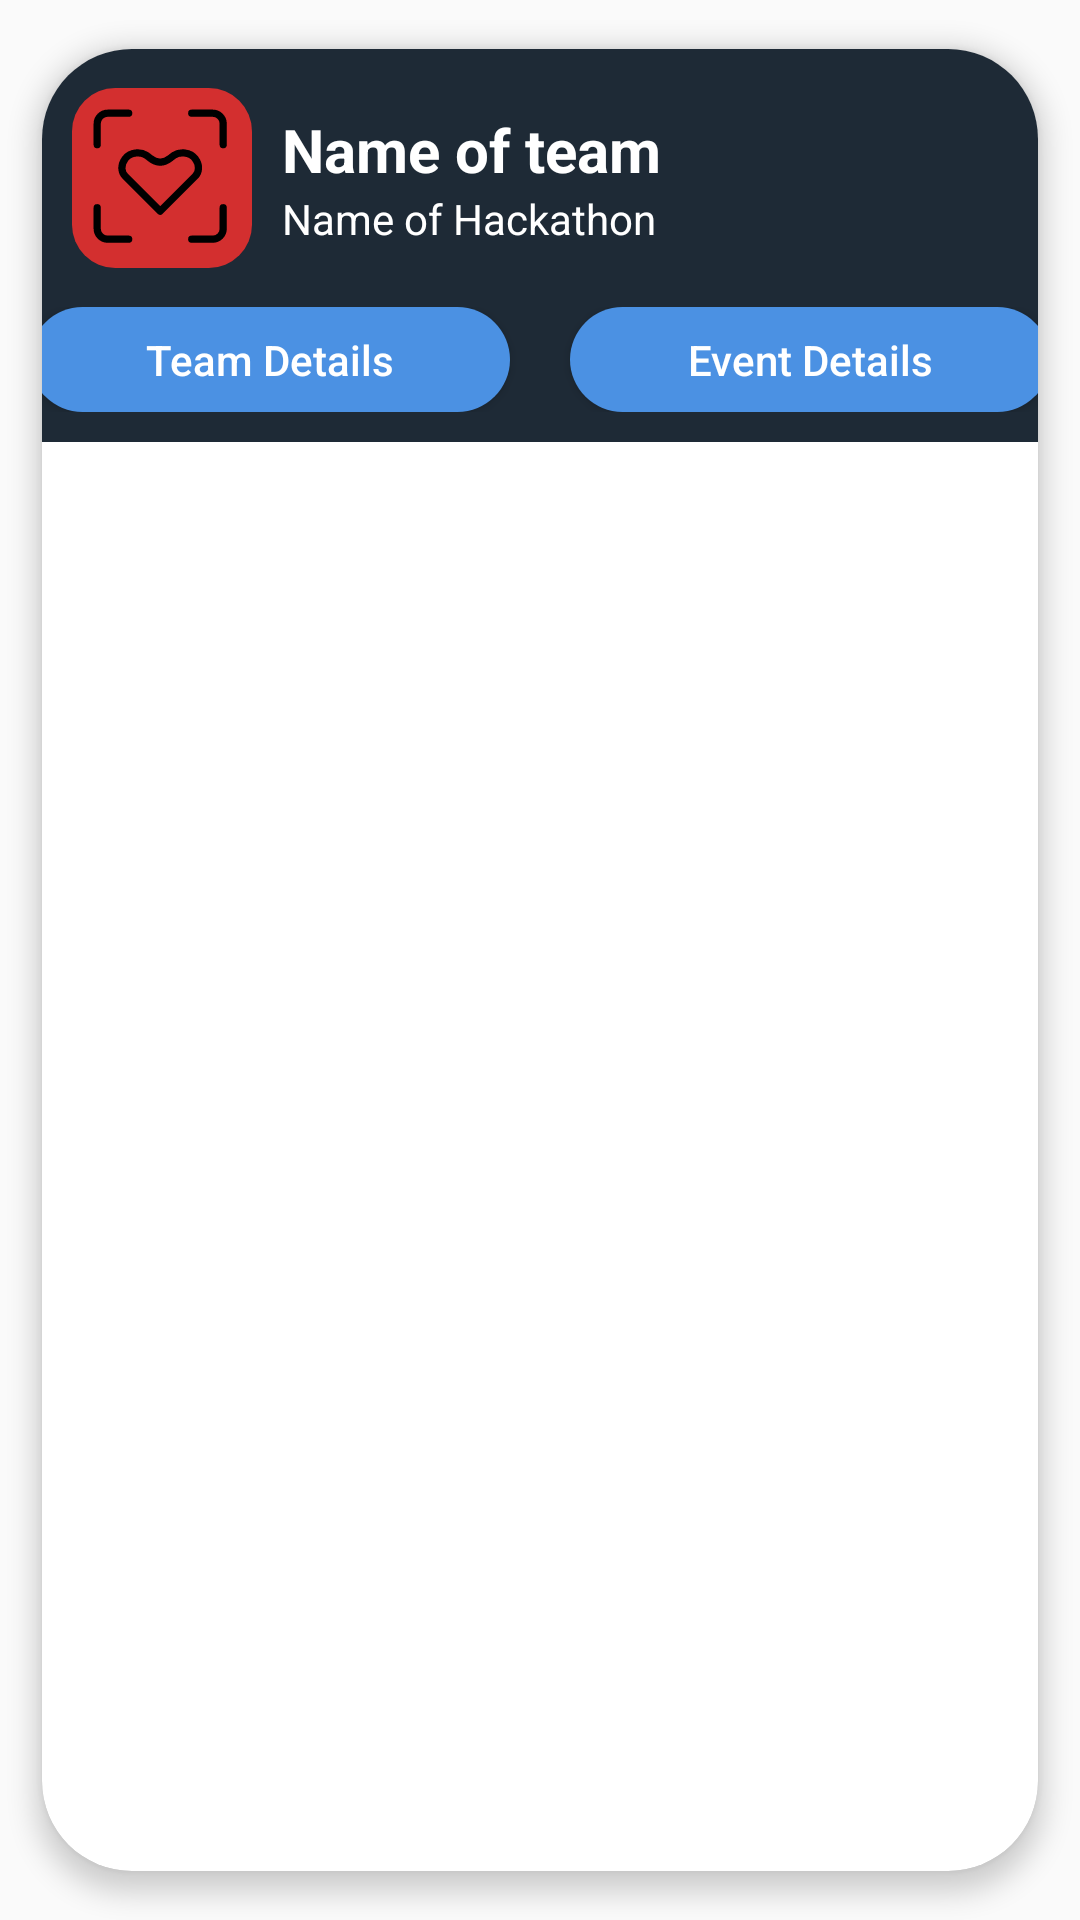

Icons on this 1080 × 1920 Android screen, each with the point to tap as (x=x, y=y):
healthtech: (x=162, y=178)
